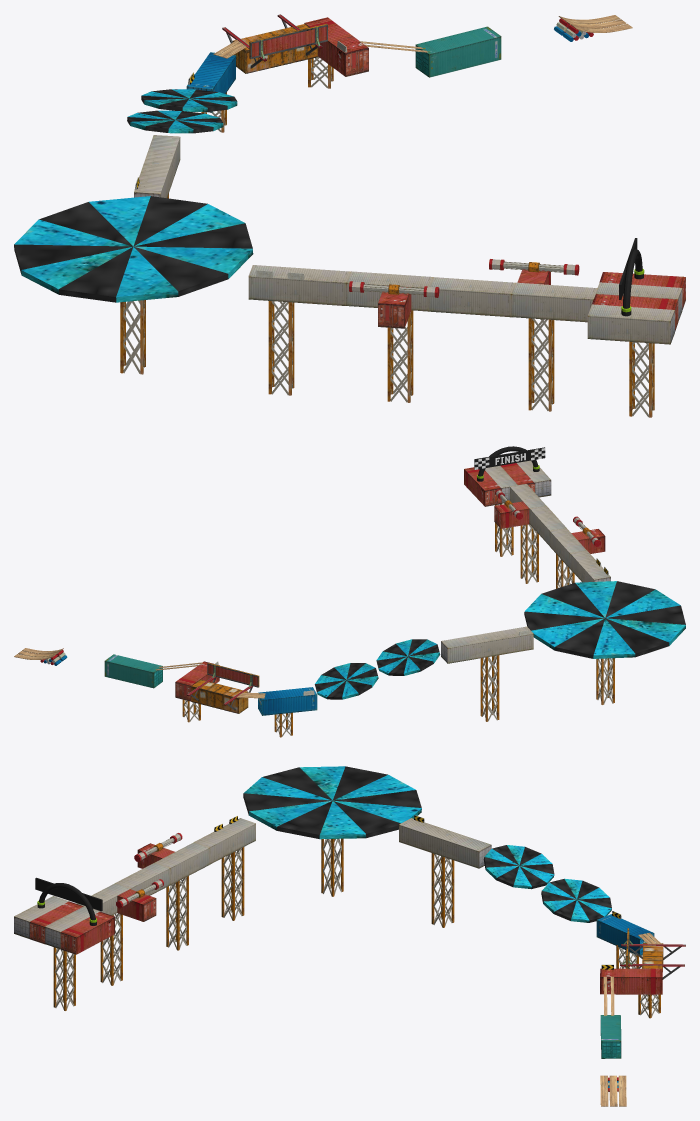
File: 8_Parkour.fbx
3 views of the same model, one above another, from view 1: azimuth 30°, elevation 25°; view 2: azimuth 150°, elevation 25°; view 3: azimuth 270°, elevation 25° (orthographic). The views are drawn at different scales.
Parts seen in each view (by area): view 1: TurningPlatform__2_, stcontainerwhitetwo, stcontainergreen, stcontainerwhitetwo__6_, stcontainerwhitetwo__2_, stcontainerwhitetwo__3_, stcontainerwhitetwo__4_, stcontainerred__4_, TurningPlatform__1_, stcontainerwhitetwo__1_, TurningPlatform, stcontainerorange (+18 smaller); view 2: TurningPlatform__2_, stcontainerwhitetwo__4_, TurningPlatform, TurningPlatform__1_, stcontainergreen, stcontainerblue, stcontainerorange, finishObject, stcontainerred__8_, stcontainerwhitetwo, stcontainerwhitetwo__1_, stcontainerwhitetwo__2_ (+13 smaller); view 3: TurningPlatform__2_, stcontainerwhitetwo__4_, TurningPlatform__1_, TurningPlatform, stcontainerred__4_, stcontainerwhitetwo, stcontainerred__8_, stcontainerwhitetwo__1_, stcontainerblue, finishObject, stcontainerwhitetwo__2_, stcontainergreen (+15 smaller).
Boxes of the visible parts, x1,y1,x2,y2 form: TurningPlatform__2_: (14, 196, 253, 302); stcontainerwhitetwo: (248, 265, 350, 305); stcontainergreen: (415, 26, 501, 77); stcontainerwhitetwo__6_: (587, 304, 674, 344); stcontainerwhitetwo__2_: (429, 277, 515, 317); stcontainerwhitetwo__3_: (511, 282, 597, 322); stcontainerwhitetwo__4_: (134, 135, 180, 198); stcontainerred__4_: (304, 17, 368, 76); TurningPlatform__1_: (127, 110, 223, 133); stcontainerwhitetwo__1_: (347, 271, 432, 311); TurningPlatform: (141, 89, 237, 111); stcontainerorange: (232, 24, 318, 73); TurningPlatform__2_: (524, 581, 685, 658); stcontainerwhitetwo__4_: (441, 626, 533, 663); TurningPlatform: (314, 663, 378, 699); TurningPlatform__1_: (376, 639, 440, 675); stcontainergreen: (104, 654, 162, 688); stcontainerblue: (258, 687, 317, 715); stcontainerorange: (191, 679, 248, 713); finishObject: (474, 446, 545, 481); stcontainerred__8_: (464, 467, 501, 506); stcontainerwhitetwo: (570, 550, 610, 582); stcontainerwhitetwo__1_: (550, 528, 586, 568); stcontainerwhitetwo__2_: (530, 506, 566, 546); TurningPlatform__2_: (243, 766, 421, 839); stcontainerwhitetwo__4_: (399, 818, 491, 868); TurningPlatform__1_: (483, 845, 554, 889); TurningPlatform: (541, 878, 611, 922); stcontainerred__4_: (600, 968, 662, 994); stcontainerwhitetwo: (194, 818, 255, 864); stcontainerred__8_: (60, 911, 114, 954); stcontainerwhitetwo__1_: (155, 842, 209, 885); stcontainerblue: (596, 914, 654, 955); finishObject: (35, 877, 102, 925); stcontainerwhitetwo__2_: (115, 863, 169, 895); stcontainergreen: (600, 1015, 621, 1058).
Bounding box in the file's own units: 17934 × 3706 × 17880.
